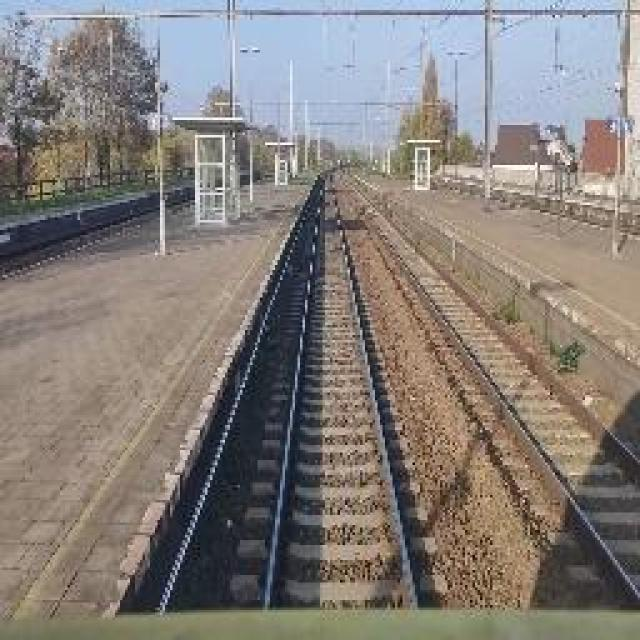rail: (338, 176, 640, 613), (215, 173, 460, 615)
